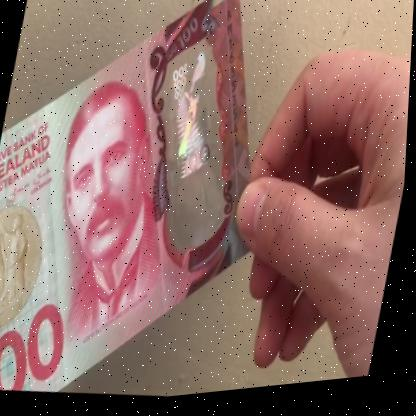100F: (141, 44, 252, 258)
